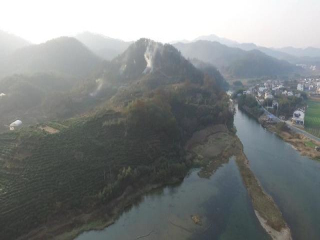smoke: (140, 37, 162, 76)
